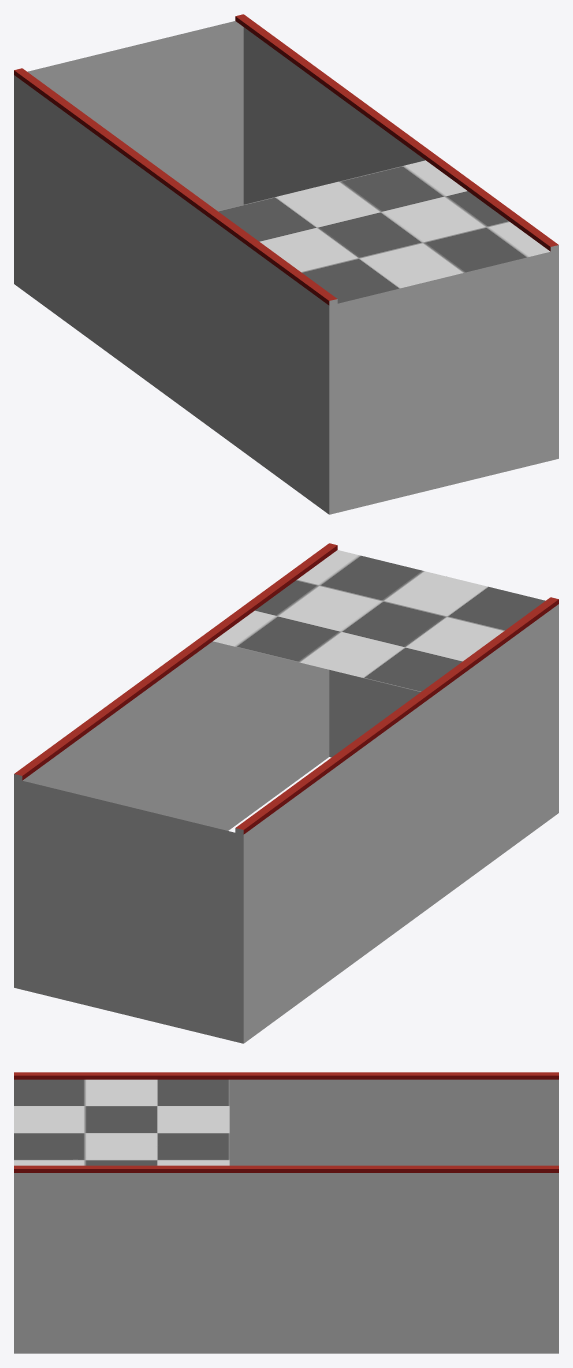
The model's file is Road_Curve_00.fbx.
The picture shows the model from 3 angles, top to bottom: view 1: azimuth 30°, elevation 25°; view 2: azimuth 150°, elevation 25°; view 3: azimuth 270°, elevation 25°; orthographic projection. The views are drawn at different scales.
Parts seen in each view (by area): view 1: Road_Curve_00, Road_Curve_00_Border; view 2: Road_Curve_00, Road_Curve_00_Border; view 3: Road_Curve_00, Road_Curve_00_Border.
Part boxes in pixels (x1,y1,x2,y2): Road_Curve_00: (14, 21, 558, 514); Road_Curve_00_Border: (14, 14, 558, 305); Road_Curve_00: (14, 550, 558, 1043); Road_Curve_00_Border: (14, 543, 558, 834); Road_Curve_00: (14, 1079, 558, 1353); Road_Curve_00_Border: (14, 1072, 558, 1172).
Size of the model in its own units: 985 by 876 by 2342.
